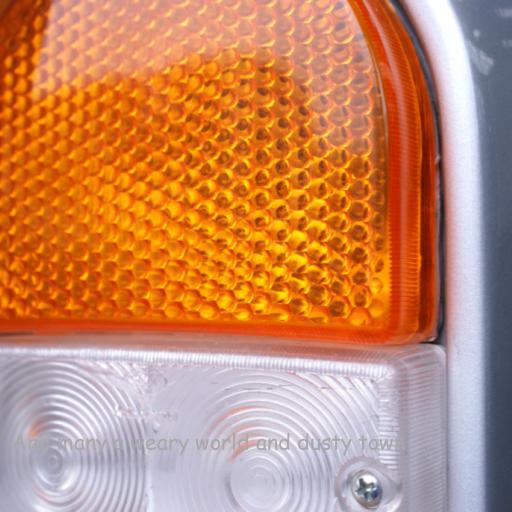Comic Sans MS: (11, 432, 405, 456)
